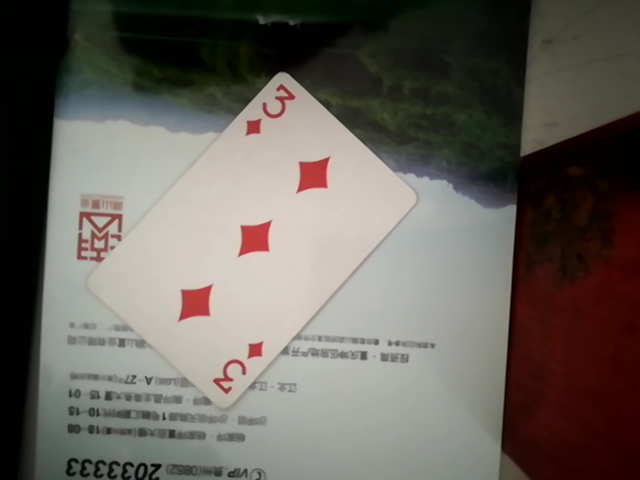fk 3: (88, 70, 415, 406)
